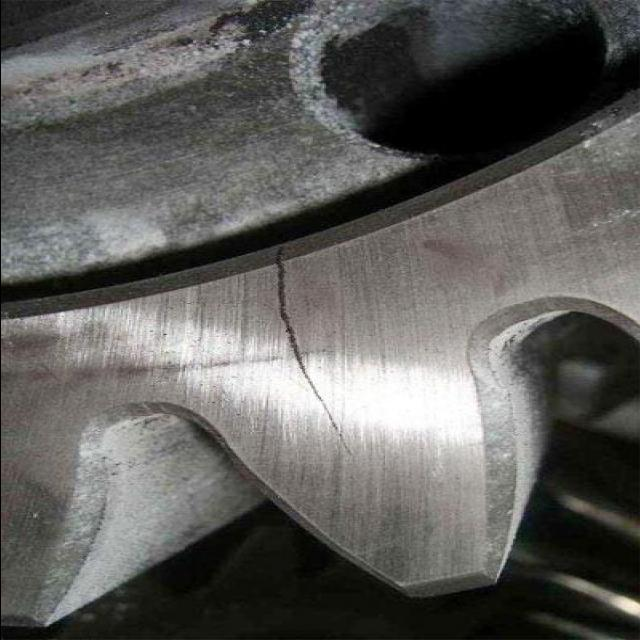Crack: (270, 242, 357, 464)
